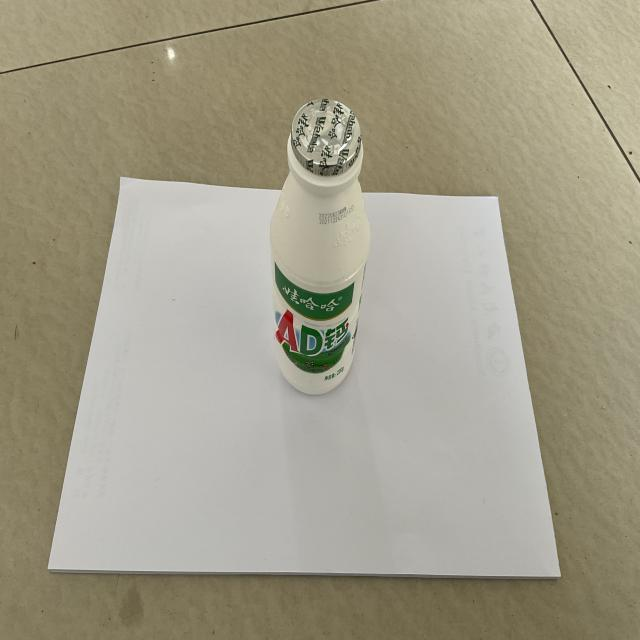chai: (271, 98, 370, 394)
